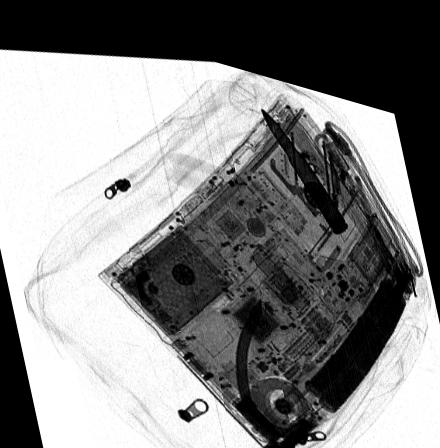Bullet: (258, 91, 348, 216)
